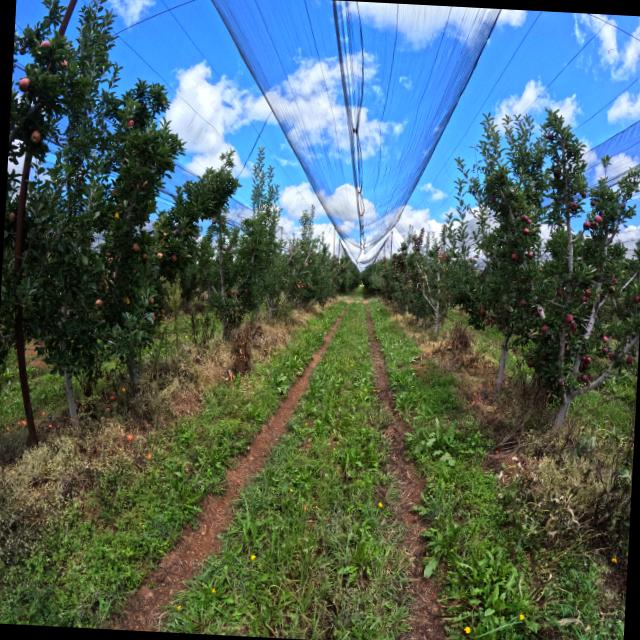-FireBlight-: (478, 305, 512, 331)
